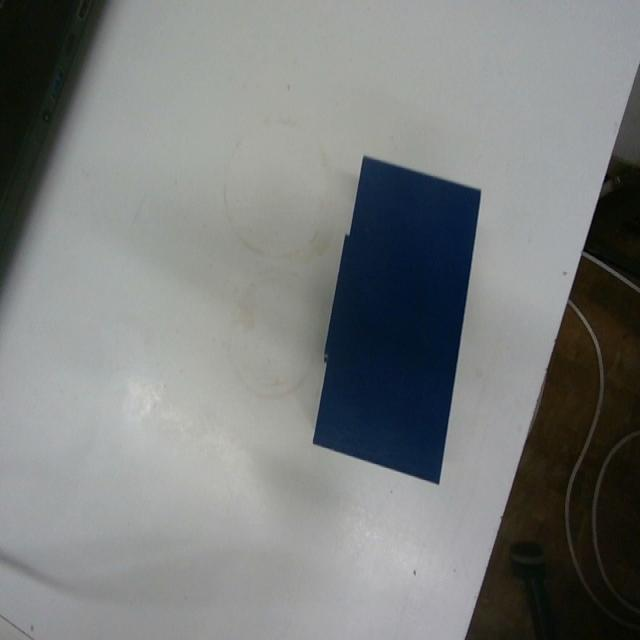Blue Cuboid: (310, 151, 482, 485)
